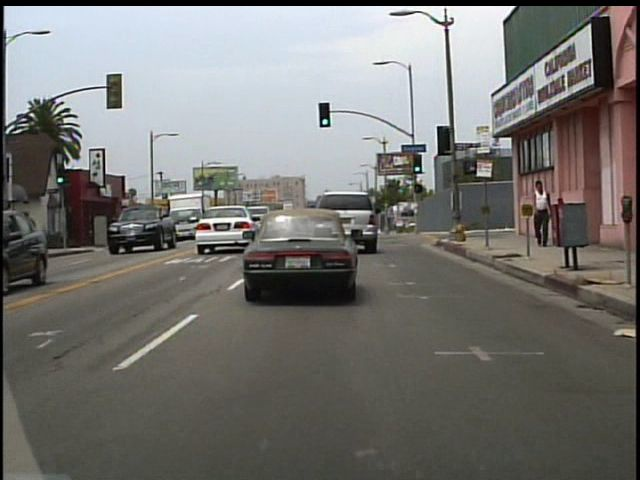person: (529, 176, 559, 250)
